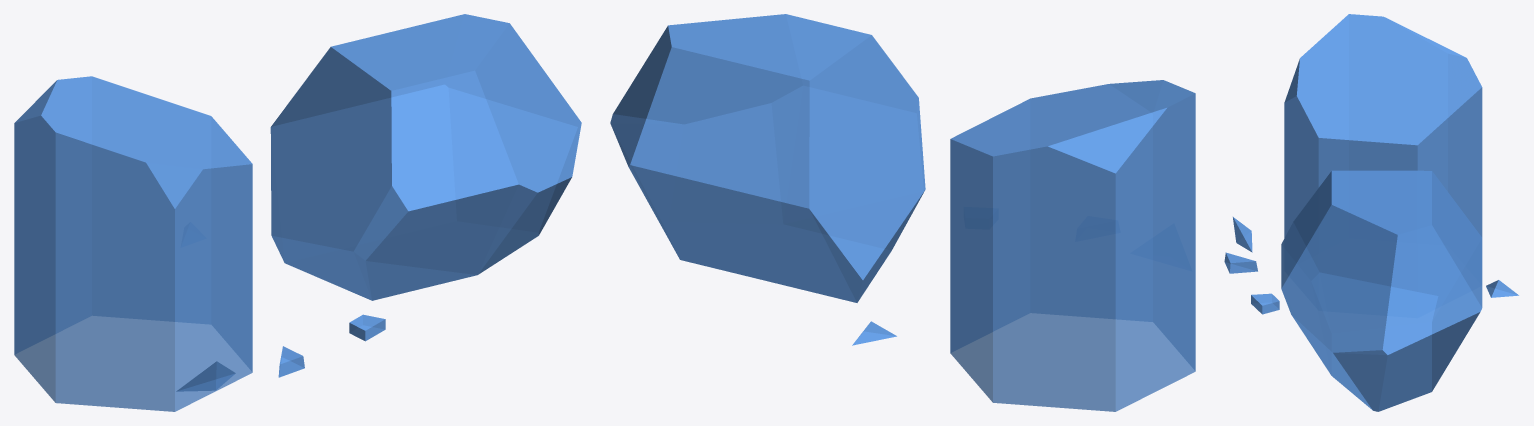
File: Crystal_crk_m_01.fbx
3 renders of one model, left to right at view 1: azimuth 30°, elevation 25°; view 2: azimuth 150°, elevation 25°; view 3: azimuth 270°, elevation 25°, orthographic. The views are drawn at different scales.
Parts seen in each view (by area): view 1: Crystal_crk_m_01; view 2: Crystal_crk_m_01; view 3: Crystal_crk_m_01.
Part boxes in pixels (x1,y1,x2,y2): Crystal_crk_m_01: (14,14,581,411); Crystal_crk_m_01: (610,14,1195,411); Crystal_crk_m_01: (1224,14,1518,411).
Bounding box in the file's own units: 219 × 104 × 123.
